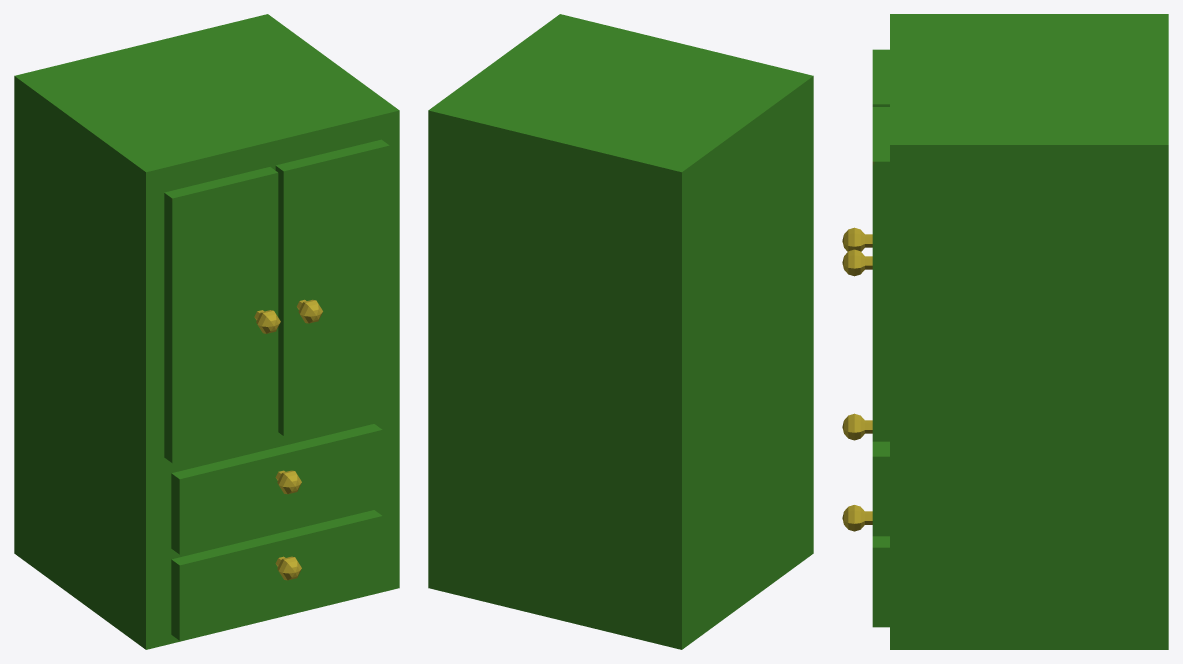
The model's file is Chest.fbx.
3 renders of one model, left to right at view 1: azimuth 30°, elevation 25°; view 2: azimuth 150°, elevation 25°; view 3: azimuth 270°, elevation 25°, orthographic. The views are drawn at different scales.
Parts seen in each view (by area): view 1: 立方体; view 2: 立方体; view 3: 立方体.
Boxes of the visible parts, <box> form: 立方体: <box>14,14,399,649</box>; 立方体: <box>428,14,813,649</box>; 立方体: <box>842,14,1168,649</box>.
Bounding box in the file's own units: 0.5 × 0.9 × 0.5268.
